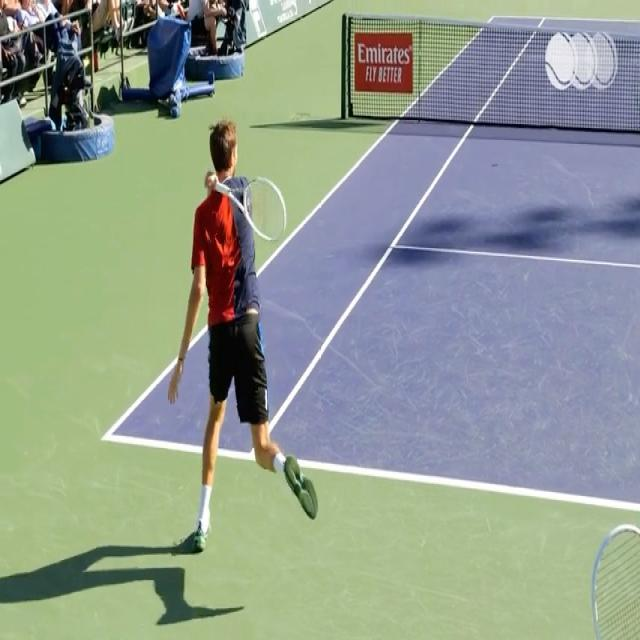forehand-finish: (167, 115, 318, 561)
